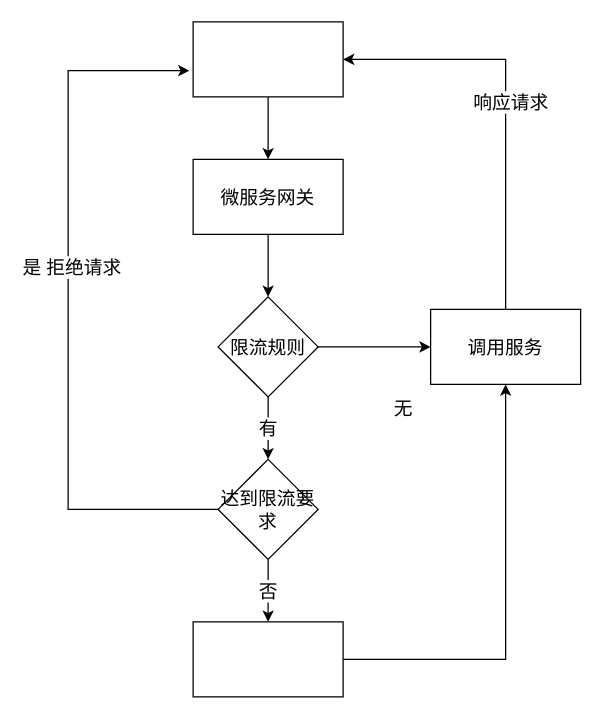
Image size: 603x719. Some labels were removed from this diagram. The shapes that lost their labels are listed below. From the top down, each one's centre as x and y in pixels, then its label:
At pixel 267 59: "微服务调用请求".
At pixel 267 659: "计数".
